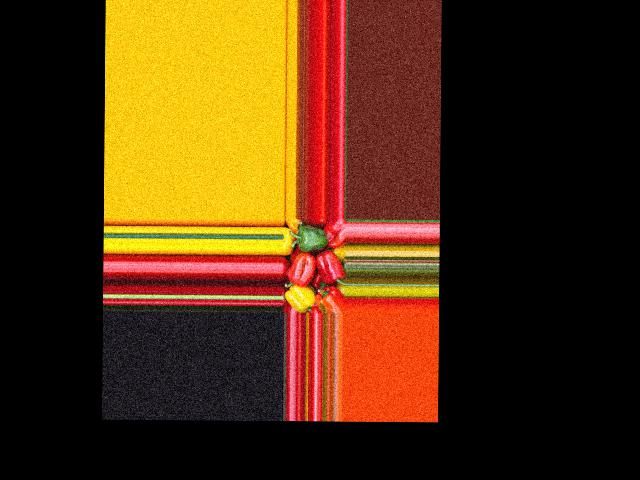bell_pepper: (283, 283, 317, 312)
